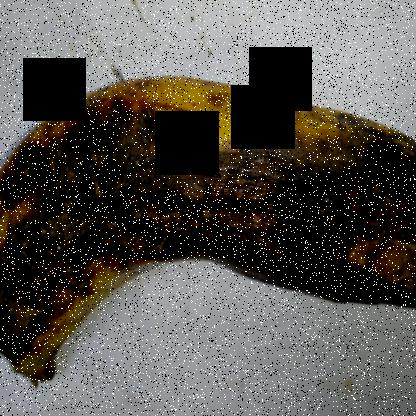rotten: (0, 60, 415, 344)
